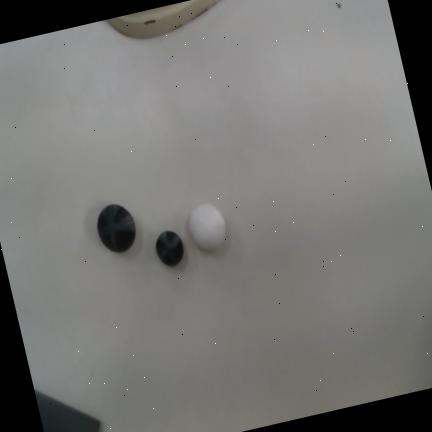Esfera: (97, 204, 136, 253), (189, 204, 227, 251), (157, 231, 184, 267)
